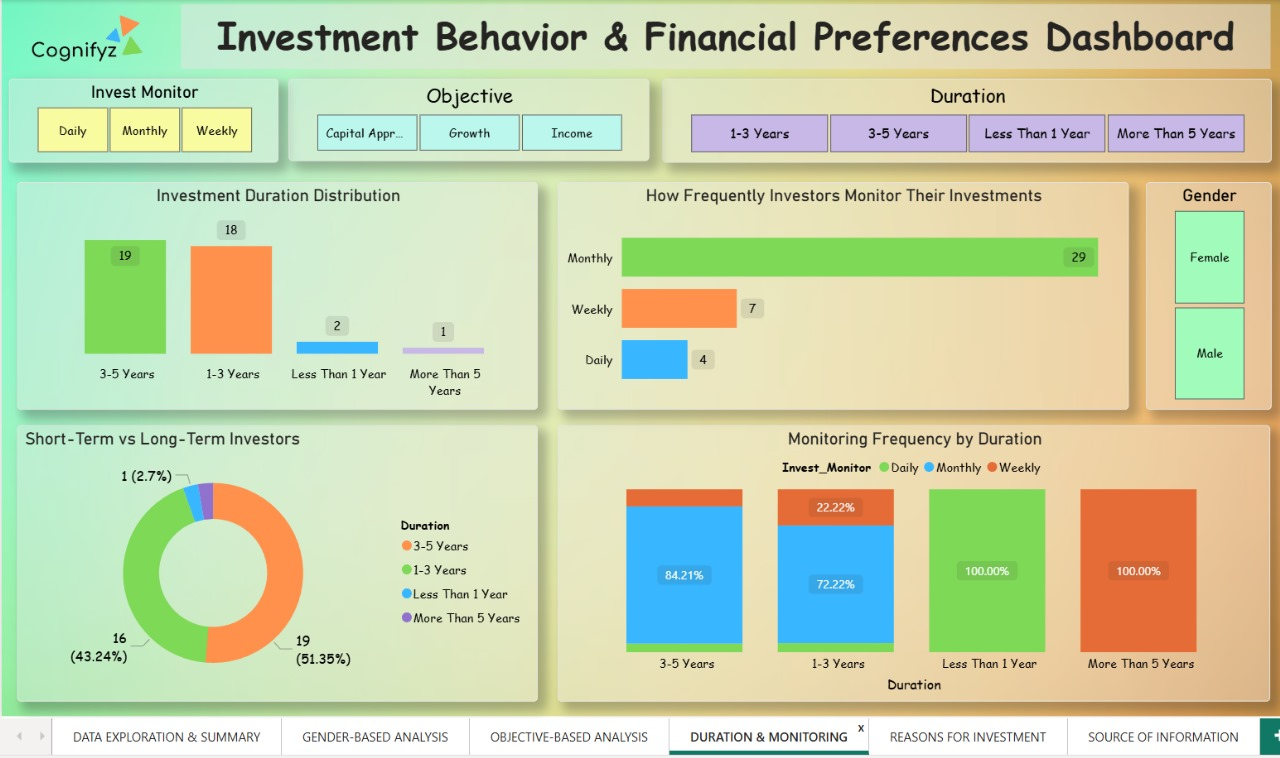

The dashboard page shown, as its layout file describes it:
{"tool":"powerbi","page":{"name":"DURATION & MONITORING","canvas":[1280,720],"ordinal":3},"visuals":[{"type":"textbox","box":[179.7,3.7,1090.7,64.8],"z":0},{"type":"image","box":[7.3,8.6,156.5,59.9],"z":1000},{"type":"slicer","title":"Gender","fields":{"Values":["Data.gender"]},"box":[1145.4,182.6,125.6,227.9],"z":2000},{"type":"slicer","title":"Duration","fields":{"Values":["Data.Duration"]},"box":[661.6,79.1,609.3,83.7],"z":3000},{"type":"slicer","title":"Invest Monitor","fields":{"Values":["Data.Invest_Monitor"]},"box":[7,79.1,269.8,83.7],"z":4000},{"type":"slicer","title":"Objective","fields":{"Values":["Data.Objective"]},"box":[287.2,79.1,360.5,82.6],"z":5000},{"type":"columnChart","title":"Investment Duration Distribution","fields":{"Y":["CountNonNull(Data.Duration)"],"Category":["Data.Duration"]},"box":[15.1,182.6,520.9,227.9],"z":6000},{"type":"barChart","title":"How Frequently Investors Monitor Their Investments","fields":{"Category":["Data.Invest_Monitor"],"Y":["CountNonNull(Data.Invest_Monitor)"]},"box":[557,182.6,570.9,227.9],"z":7000},{"type":"donutChart","title":"Short-Term vs Long-Term Investors","fields":{"Category":["Data.Duration"],"Y":["CountNonNull(Data.Duration)"]},"box":[15.1,425.6,520.9,276.7],"z":8000},{"type":"hundredPercentStackedColumnChart","title":"Monitoring Frequency by Duration","fields":{"Category":["Data.Duration"],"Y":["CountNonNull(Data.Invest_Monitor)"],"Series":["Data.Invest_Monitor"]},"box":[557,425.6,712.8,276.7],"z":9000}]}

Visuals, with their boxes on the page's 1280x720 design canvas (x1, y1, x2, y2). These are canvas units, not pixel positions in the 1280x758 screenshot, which may show the page scaled, cropped or inside an application window:
textbox: <region>180, 4, 1270, 68</region>
image: <region>7, 9, 164, 68</region>
"Gender" slicer: <region>1145, 183, 1271, 410</region>
"Duration" slicer: <region>662, 79, 1271, 163</region>
"Invest Monitor" slicer: <region>7, 79, 277, 163</region>
"Objective" slicer: <region>287, 79, 648, 162</region>
"Investment Duration Distribution" columnChart: <region>15, 183, 536, 410</region>
"How Frequently Investors Monitor Their Investments" barChart: <region>557, 183, 1128, 410</region>
"Short-Term vs Long-Term Investors" donutChart: <region>15, 426, 536, 702</region>
"Monitoring Frequency by Duration" hundredPercentStackedColumnChart: <region>557, 426, 1270, 702</region>
